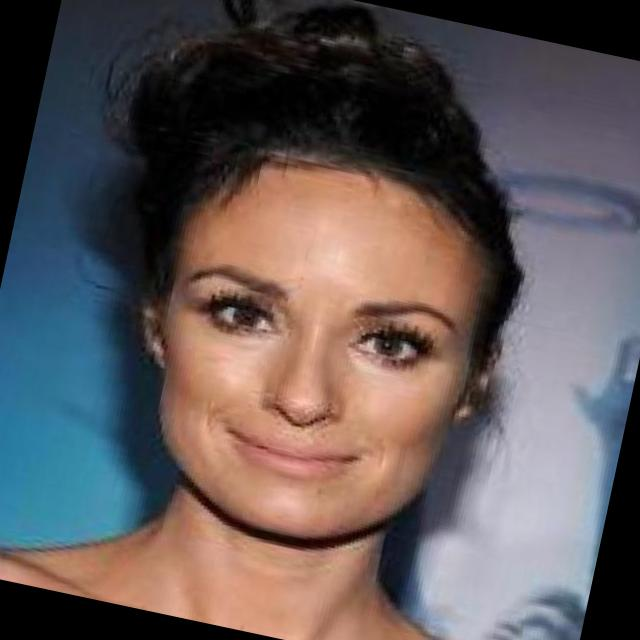bareface: (91, 61, 538, 546)
